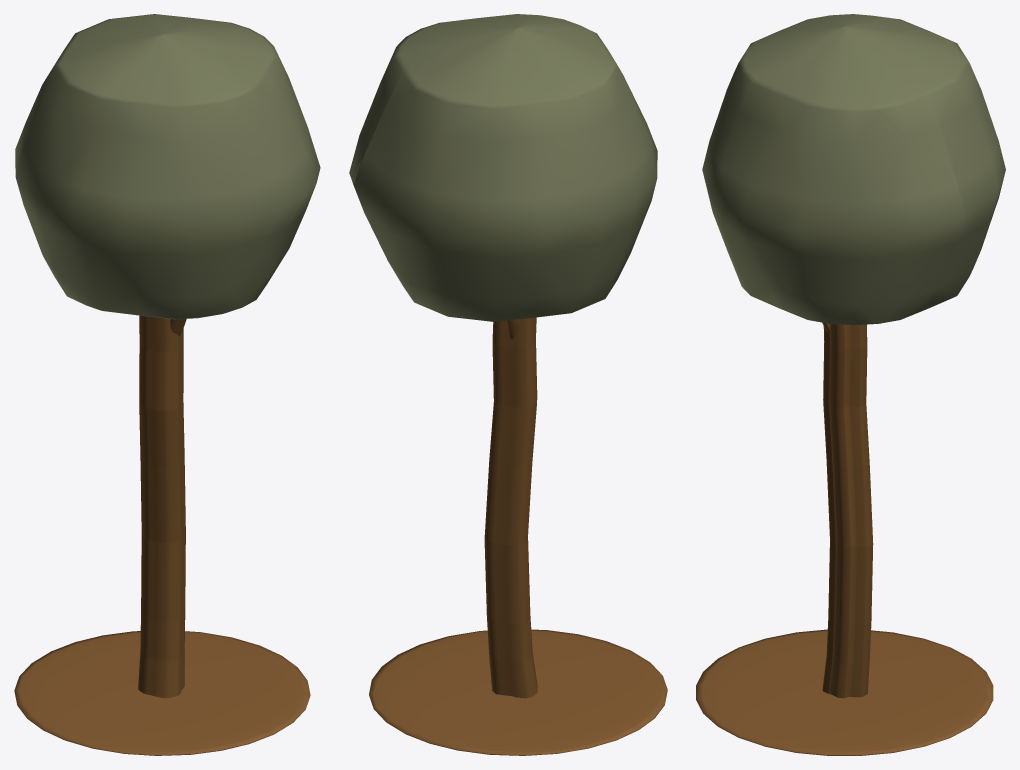
File: RoadTree_3.fbx
The picture shows the model from 3 angles, left to right: view 1: azimuth 30°, elevation 25°; view 2: azimuth 150°, elevation 25°; view 3: azimuth 270°, elevation 25°; orthographic projection.
Parts seen in each view (by area): view 1: Leaves, Ground, Rippled; view 2: Leaves, Ground, Rippled; view 3: Leaves, Ground, Rippled.
Boxes of the visible parts, left/top/right/bottom form: Leaves: left=15, top=14, right=320, bottom=319; Ground: left=14, top=631, right=310, bottom=755; Rippled: left=138, top=315, right=185, bottom=697; Leaves: left=349, top=14, right=657, bottom=321; Ground: left=369, top=629, right=667, bottom=755; Rippled: left=484, top=317, right=537, bottom=698; Leaves: left=702, top=14, right=1005, bottom=325; Ground: left=696, top=629, right=993, bottom=755; Rippled: left=822, top=324, right=873, bottom=698.
Bounding box in the file's own units: 278 × 663 × 278.
